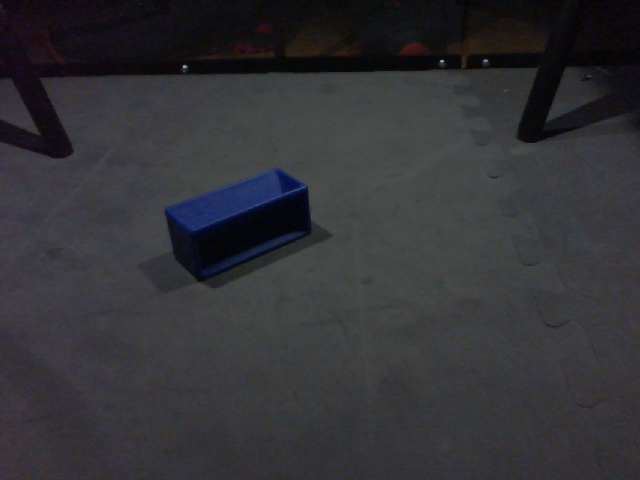BlueSample: (162, 162, 319, 283)
